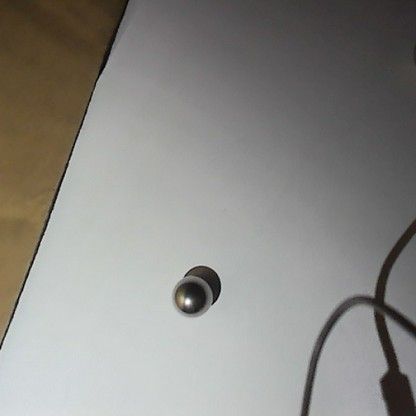ironball: (170, 276, 212, 317)
